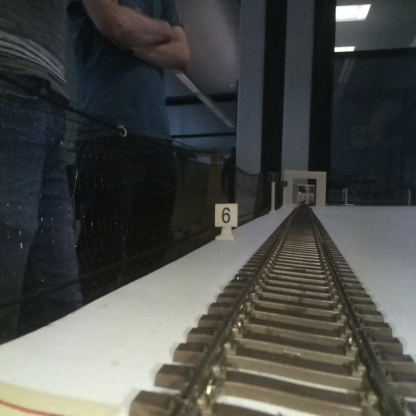white-stop-6: (215, 203, 237, 238)
